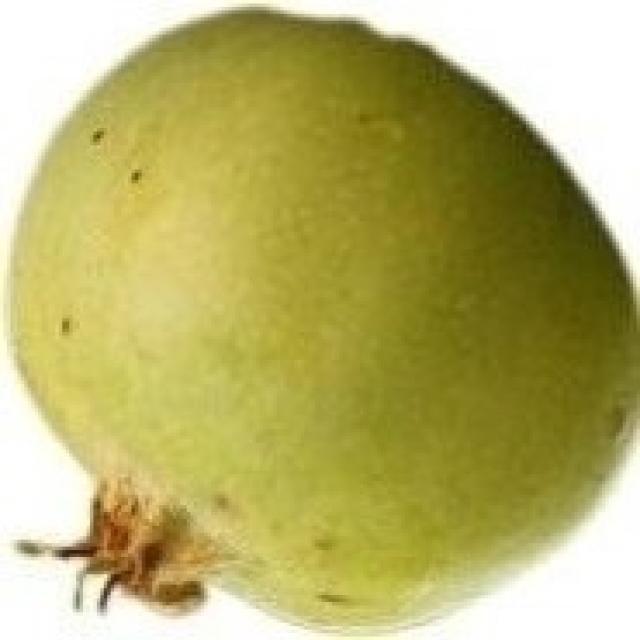50-_ripeness: (21, 0, 640, 619)
